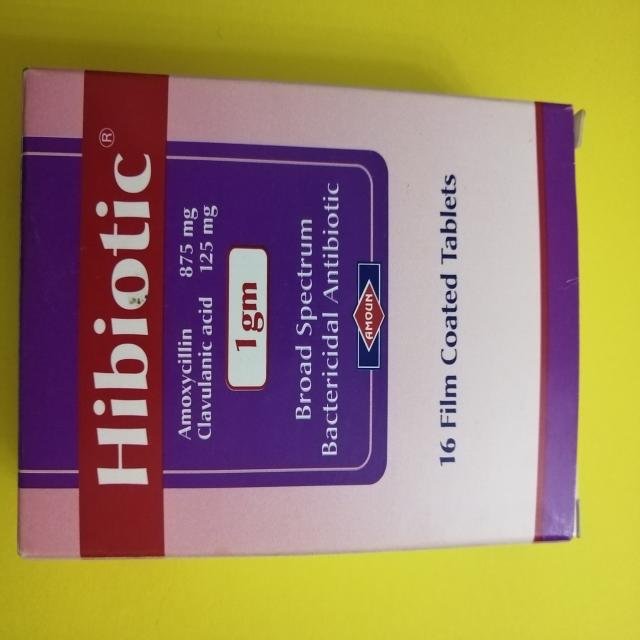Medicine: (14, 58, 590, 558)
